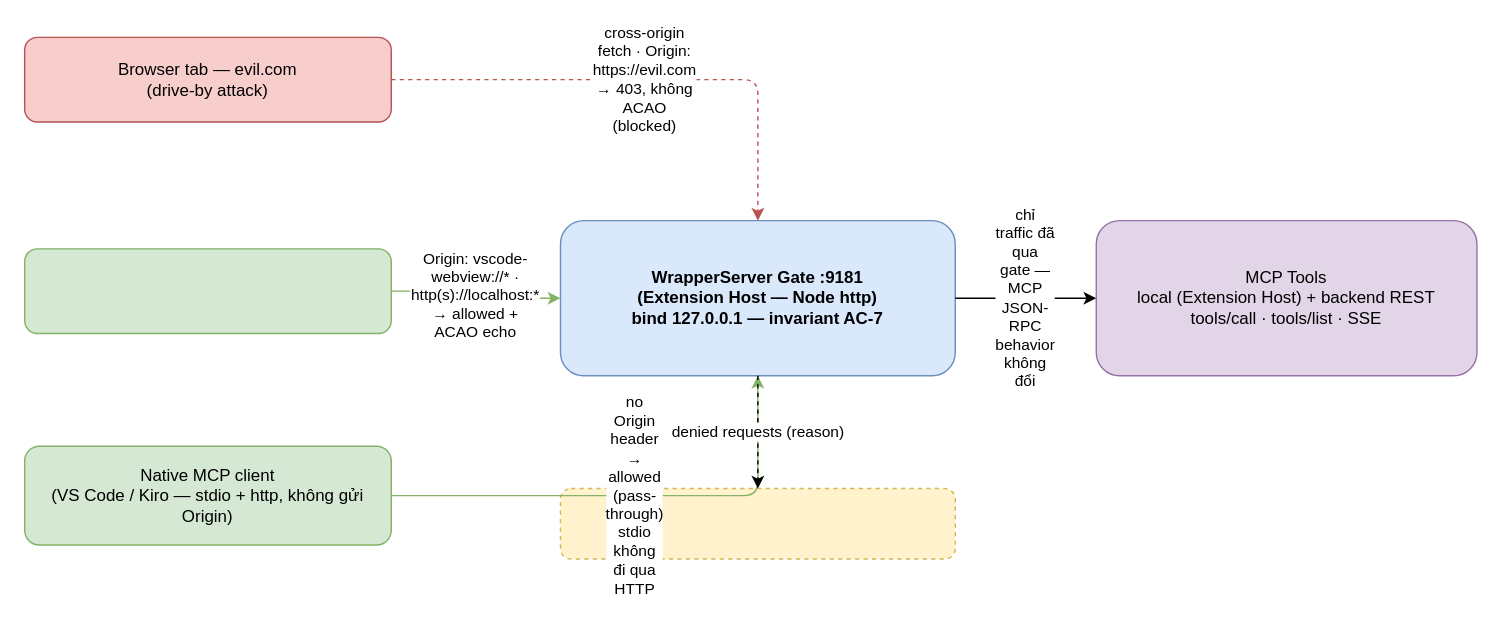
The diagram is 1502 pixels wide and 622 high, and some of its shapes have lost their labels. Here are the shapes that lost their labels. From the top down, the box of each, then its label:
(23, 247, 391, 333): vscode-webview / localhost web client (IDE)
(559, 487, 955, 559): outputChannel — deny log (sanitized)
